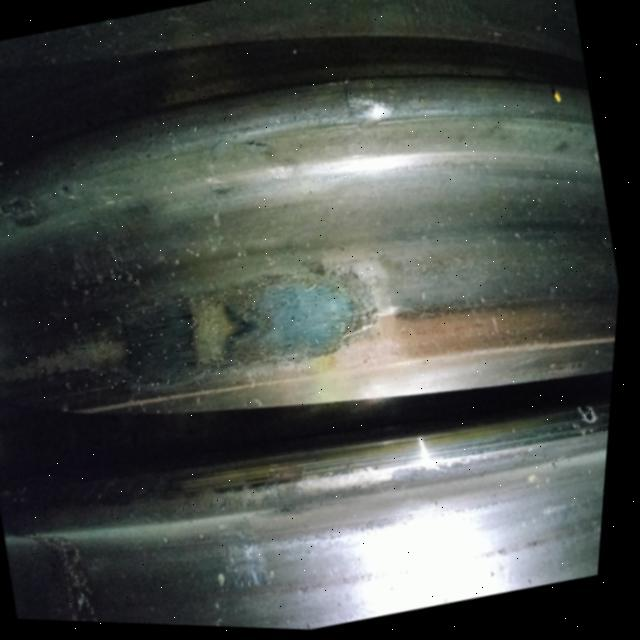flat: (91, 254, 395, 411)
